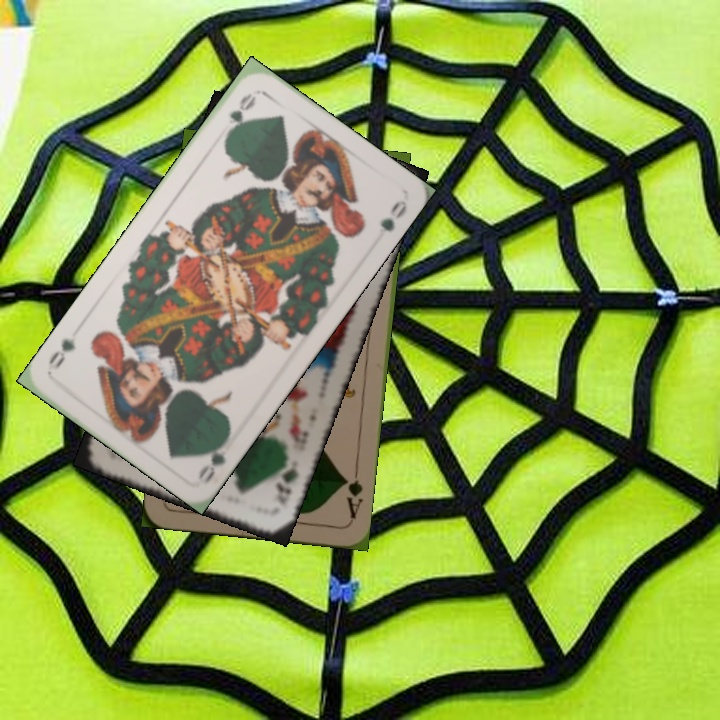GA: (339, 464, 365, 521)
GK: (272, 455, 302, 507)
GO: (194, 428, 239, 485), (221, 88, 259, 141)
